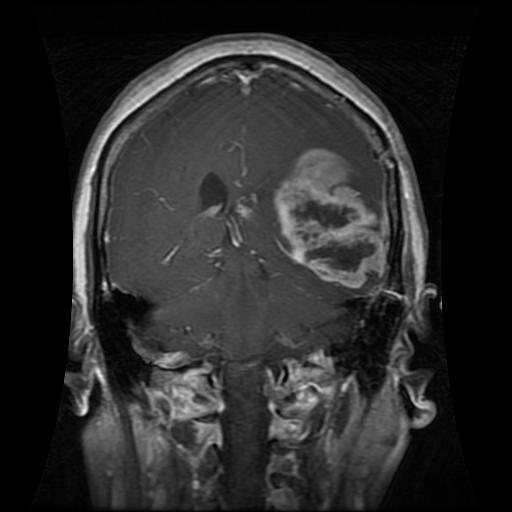Gliomia_tumour: (270, 145, 392, 295)
